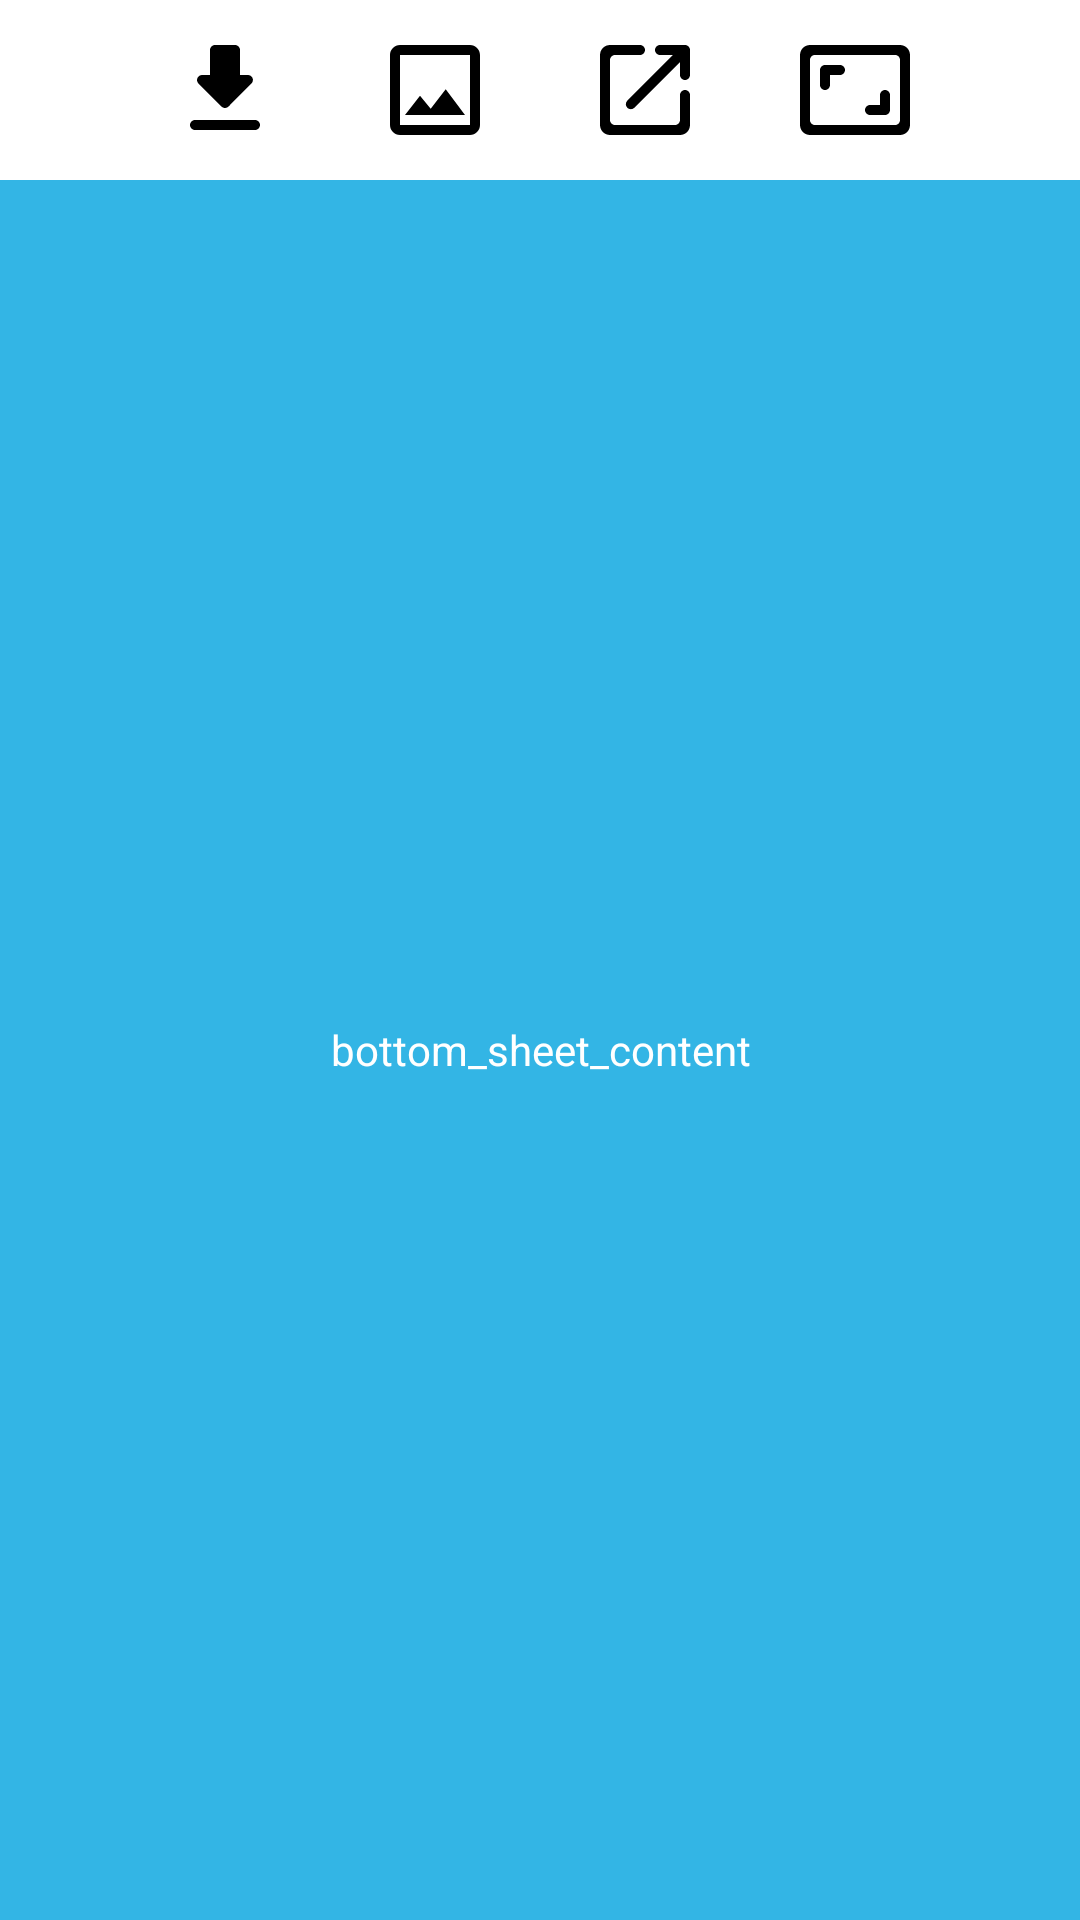

Where icons sit on this 1080*1920 app screen, as (x1, y1, x2, y2):
aspect ratio: (800, 45, 910, 135)
file download: (190, 45, 260, 130)
open in: (600, 45, 690, 135)
